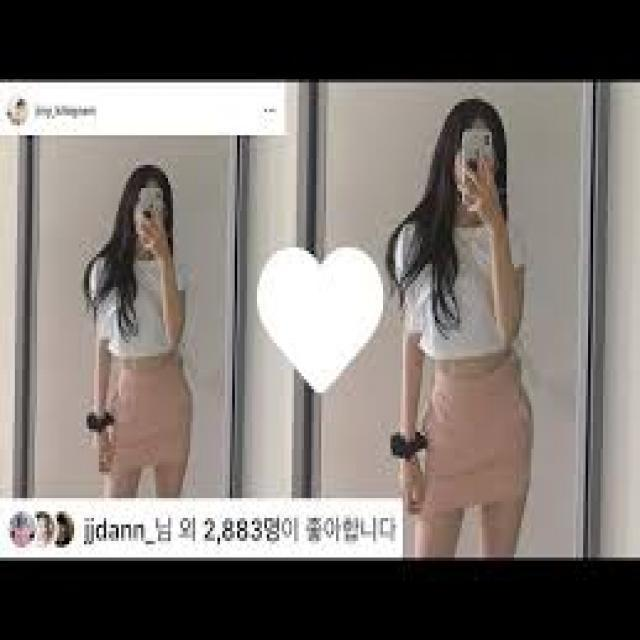Phone: (458, 127, 496, 206), (136, 188, 162, 248)
